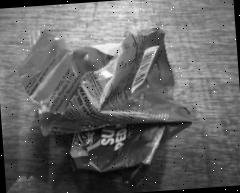general: (14, 17, 197, 193)
